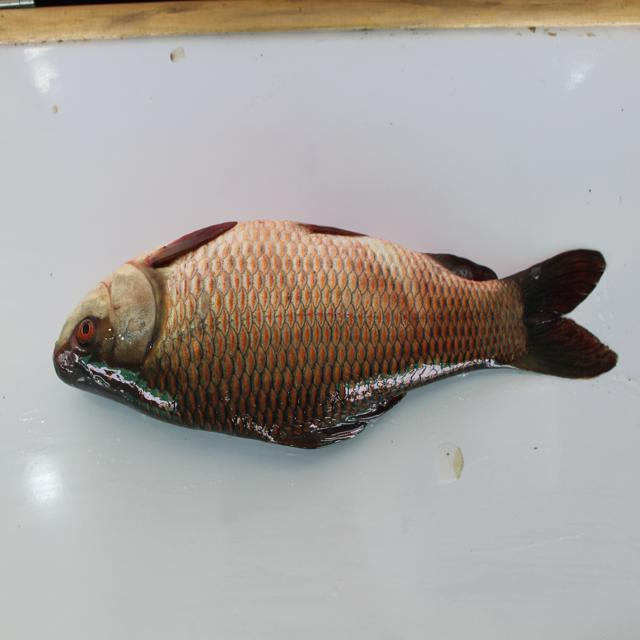Rohu: (48, 199, 620, 479)
